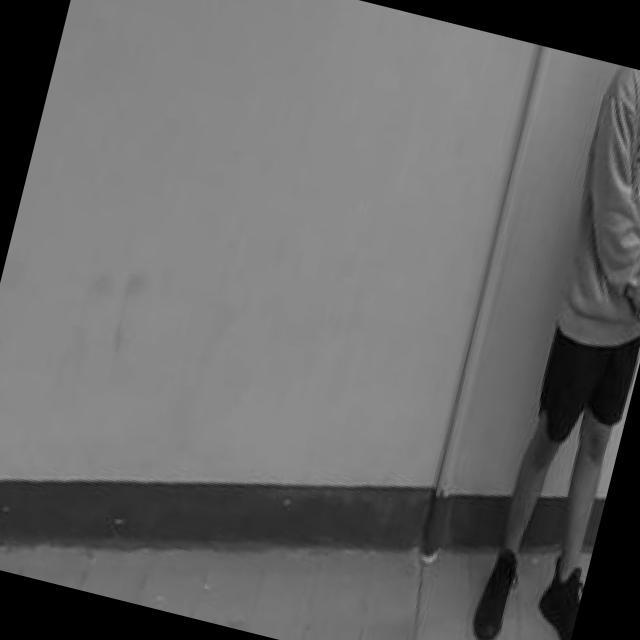Guns: (615, 265, 640, 364)
